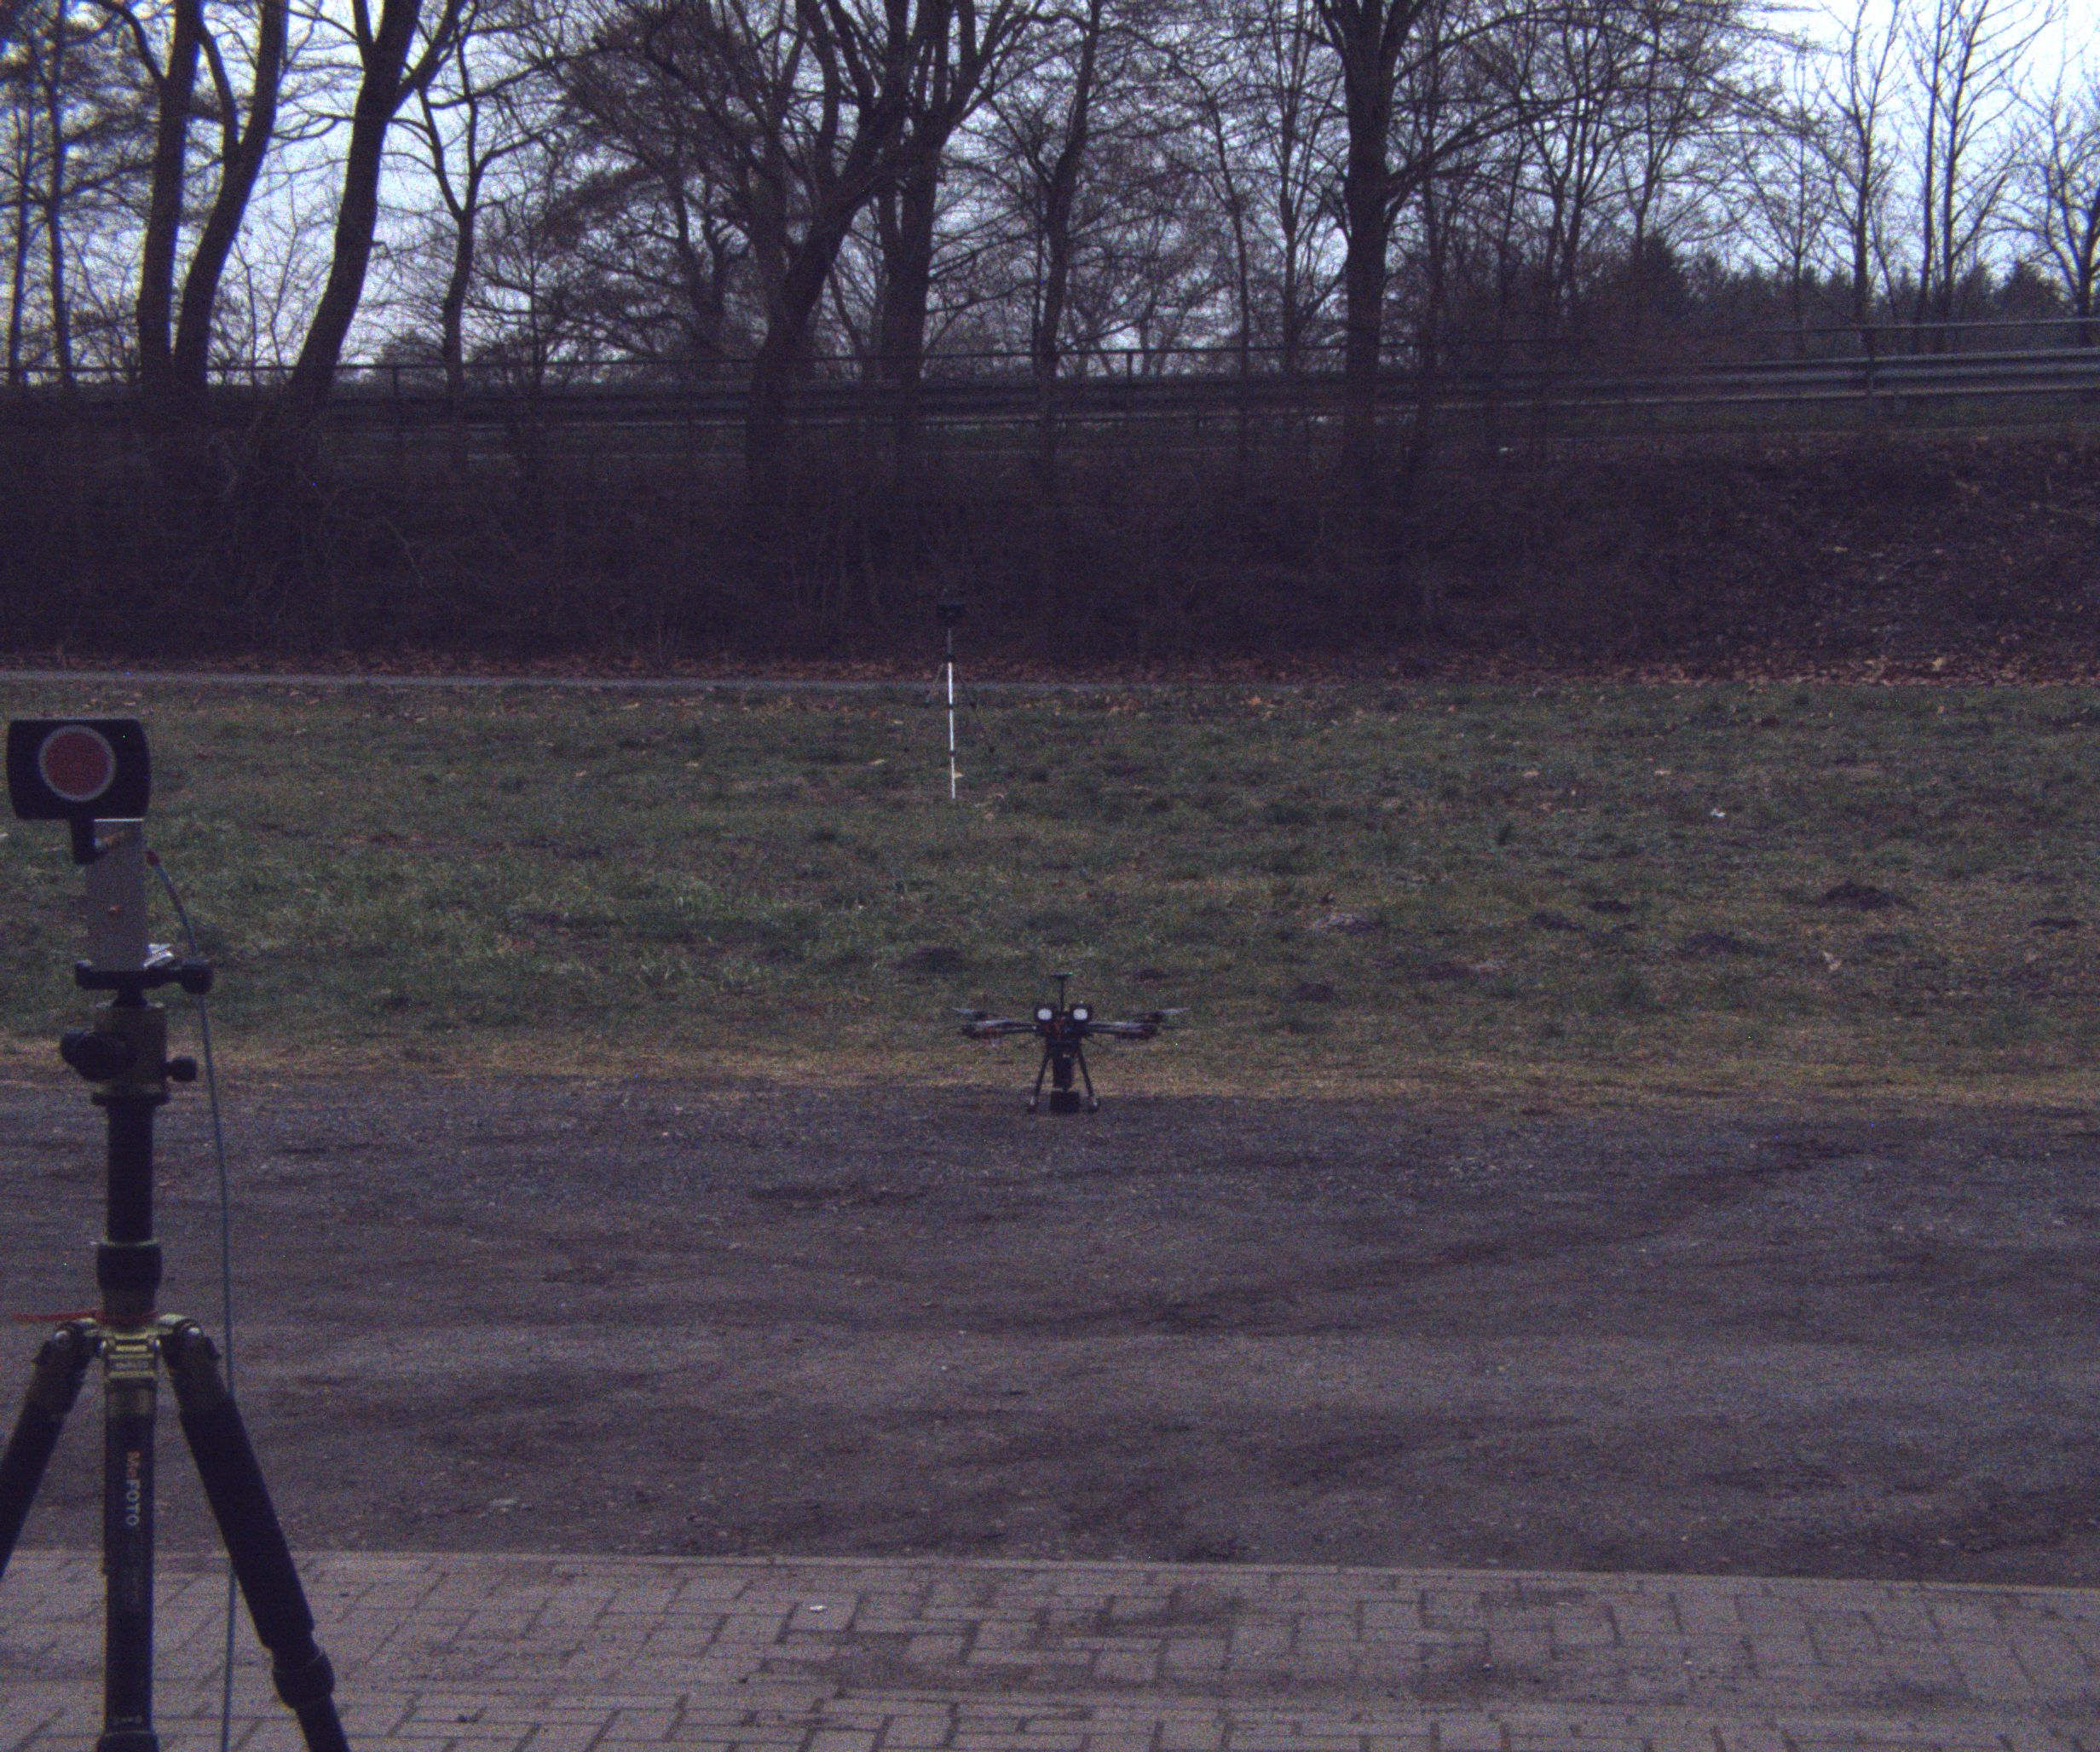Drohne: (930, 945, 1188, 1185)
